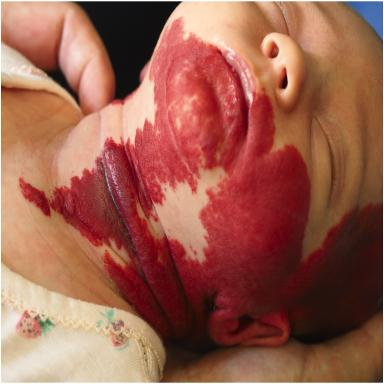Hemangiome: (19, 18, 358, 343)
